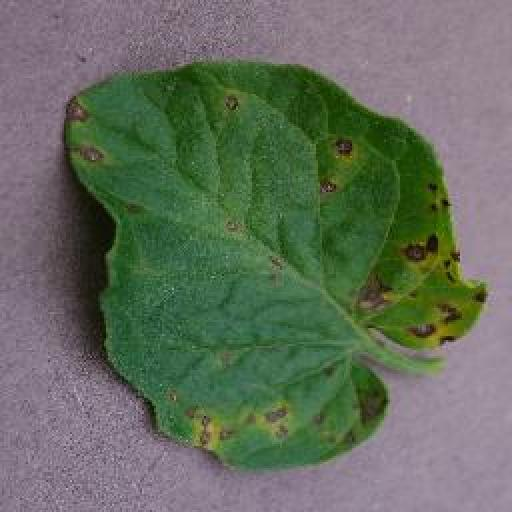Septoria: (67, 60, 488, 483)
